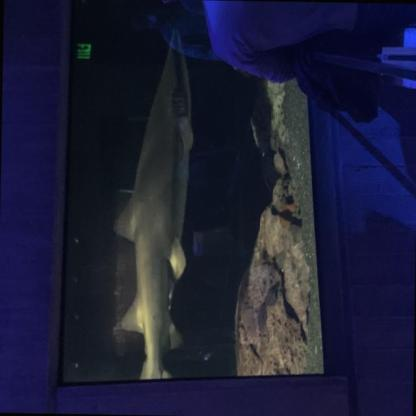shark: (107, 24, 197, 384)
